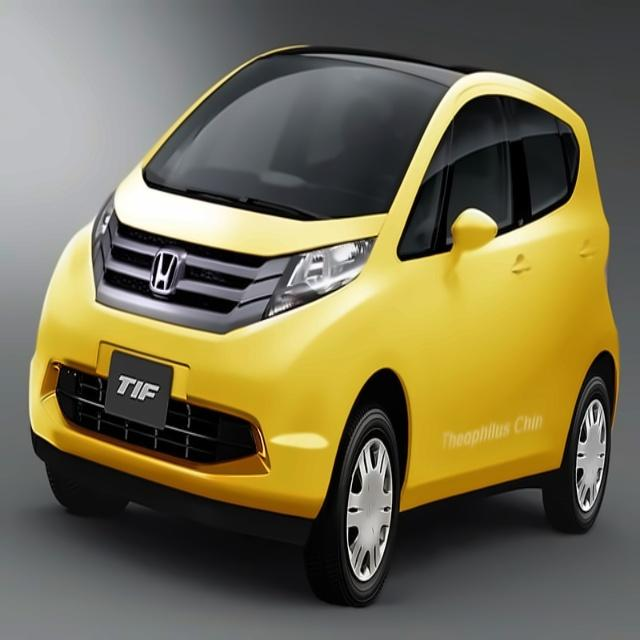Car hood: (108, 163, 388, 261)
Fender - -F-L-: (293, 258, 438, 517)
Front bumper: (23, 231, 385, 529)
Headlight - -L-: (258, 231, 383, 324)
Headlight - -R-: (78, 183, 122, 265)
Passenger-s door - -F-L-: (435, 66, 535, 470)
Passenger-s door - -R-L-: (524, 78, 610, 470)
Side bumper - -L-: (392, 444, 578, 518)
Side mirror - -L-: (445, 198, 501, 268)
